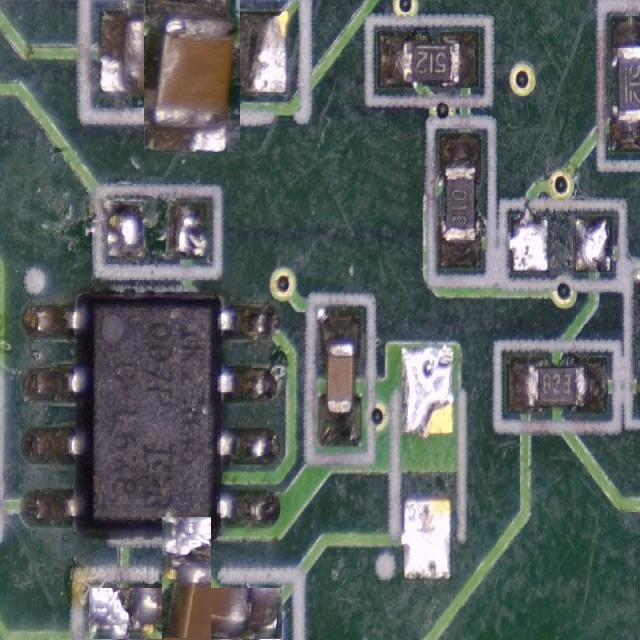Incorrect_installation: (145, 0, 239, 152), (164, 518, 211, 639)
